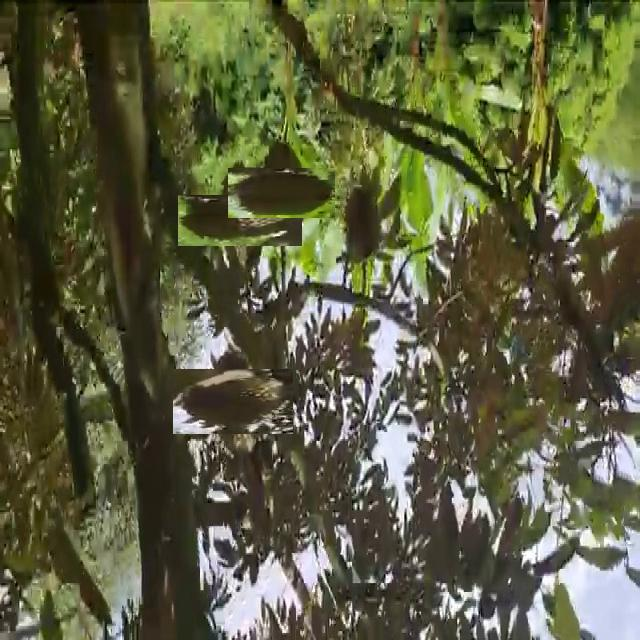durian: (187, 355, 279, 448), (196, 177, 284, 265), (242, 153, 322, 233), (339, 183, 380, 271)
